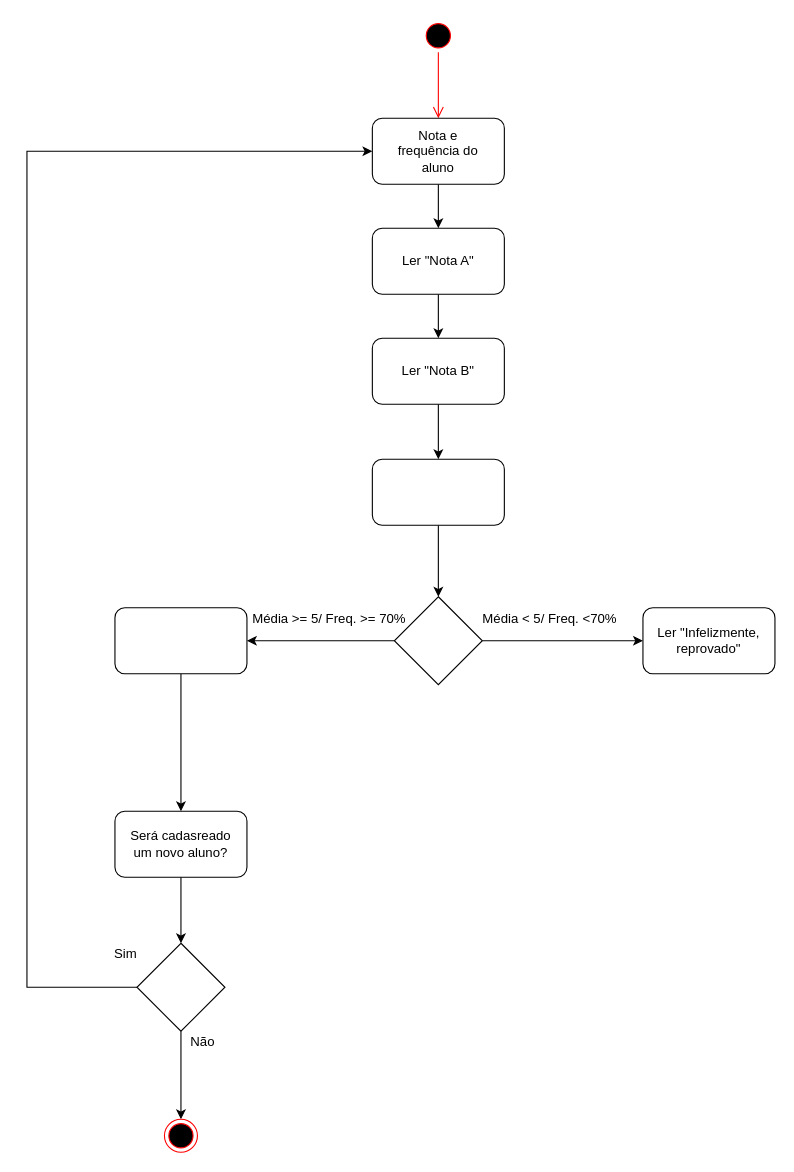
Some shapes in this 794 by 1172 pixel diagram are drawn without their labels. Each missing label, with the centre of its shape:
"Somar as duas nota e dividir por 2, e calcular a frequência": the point at 437,491
Ler "Parabéns, aprovado": the point at 180,640
